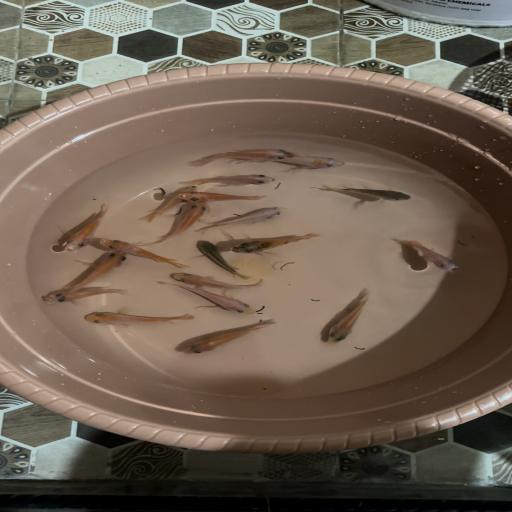nila: (165, 319, 284, 360), (314, 288, 385, 348), (42, 202, 116, 256), (160, 281, 261, 319), (390, 233, 468, 279), (55, 251, 129, 294), (193, 206, 291, 238), (72, 306, 196, 331), (150, 200, 214, 248), (99, 236, 185, 271), (184, 142, 288, 169), (188, 238, 254, 280), (226, 229, 320, 258), (136, 178, 196, 222), (320, 179, 416, 206), (38, 284, 130, 312), (166, 269, 280, 290), (243, 150, 349, 172), (176, 172, 284, 190), (176, 189, 271, 206)
